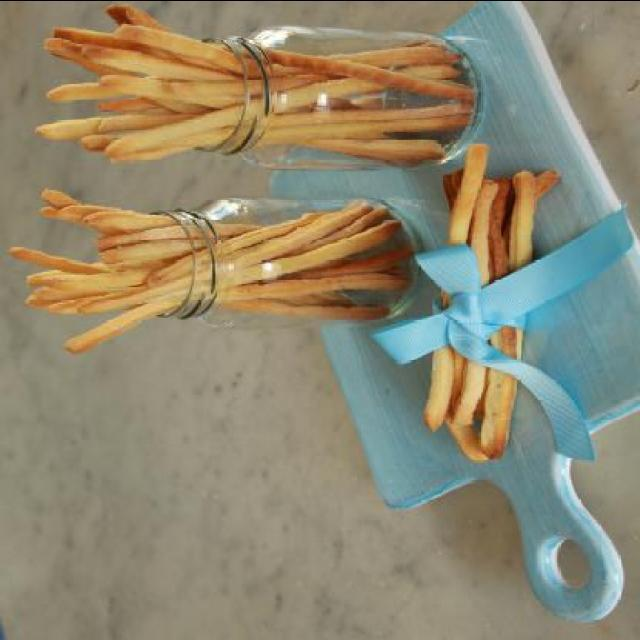Grissini: (47, 20, 447, 162), (14, 196, 374, 352)
